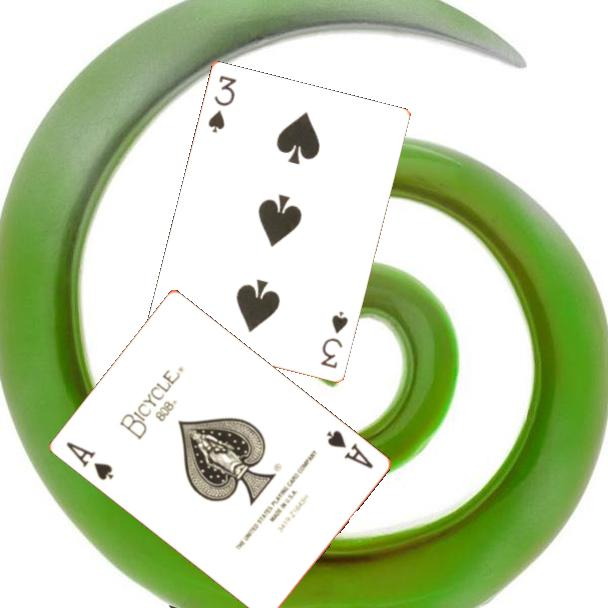s01: (322, 426, 376, 472), (62, 438, 116, 483)
s03: (205, 72, 240, 136), (317, 309, 351, 372)
